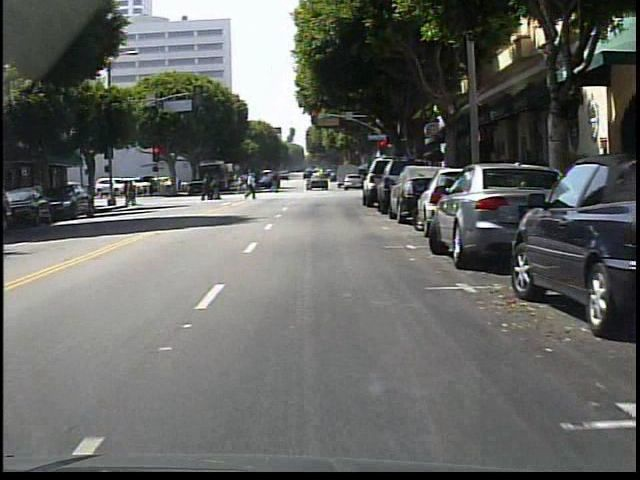person: (239, 170, 260, 202)
